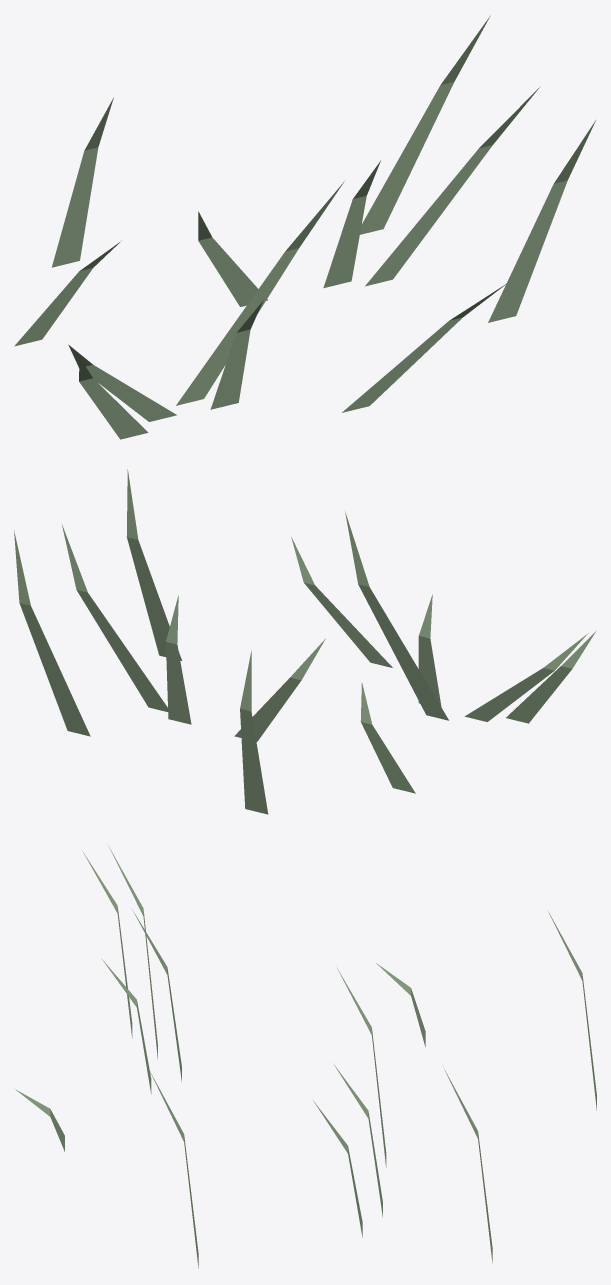
File: roadside_weeds_variant_01.glb
3 views of the same model, one above another, from view 1: azimuth 30°, elevation 25°; view 2: azimuth 150°, elevation 25°; view 3: azimuth 270°, elevation 25° (orthographic). The views are drawn at different scales.
Visible parts, largest first — view 1: static_leaf_sage; view 2: static_leaf_sage; view 3: static_leaf_sage.
Part boxes in pixels (<box>): static_leaf_sage: <box>14,15,595,439</box>; static_leaf_sage: <box>14,469,595,814</box>; static_leaf_sage: <box>15,845,596,1268</box>.
Bounding box in the file's own units: 1.07 × 0.3815 × 0.8015.
